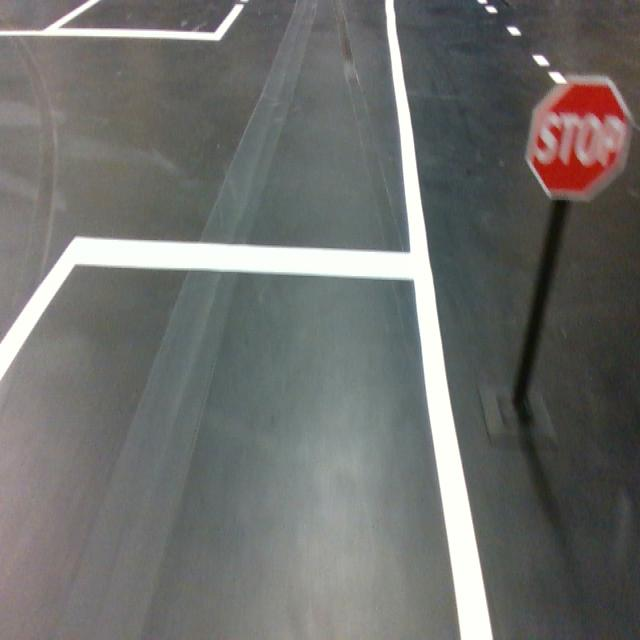stop-sign: (524, 73, 635, 204)
